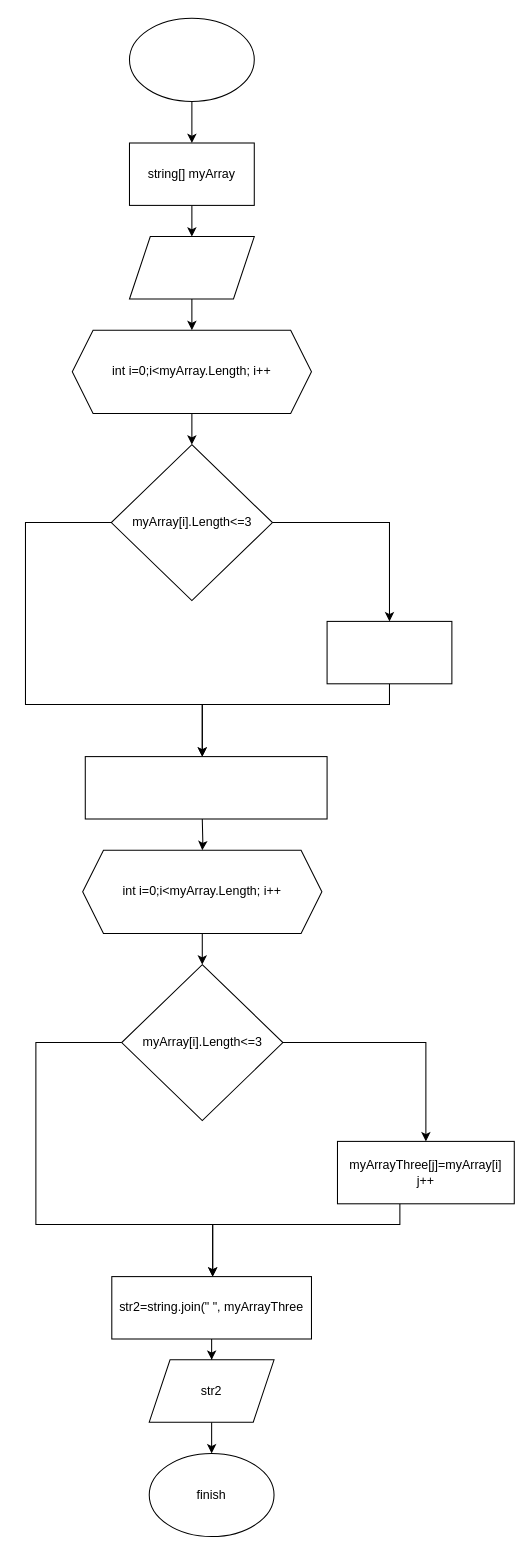
This 532x1555 diagram has some shape labels left out. Each missing label, with the centre of its shape:
"j++" goes at point 389,652.
"myArray" goes at point 191,267.
"start" goes at point 191,59.
"string[] myArrayThree =new string[j]; j=0;" goes at point 205,787.
